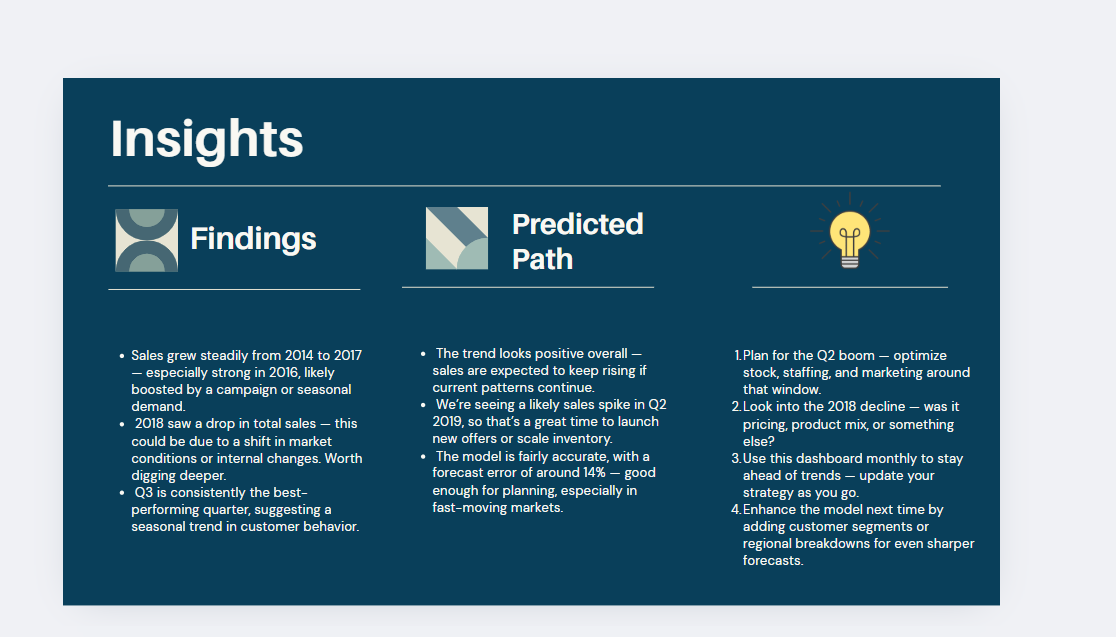

What the dashboard file says about the page in this screenshot:
{"tool":"tableau","page":{"name":"Insights","canvas":[1200,801],"ordinal":1},"visuals":[{"type":"image","param":"Image/Insights.png","box":[8,8,1184,785]}]}

Visuals, with their boxes on the page's 1200x801 design canvas (x1, y1, x2, y2). These are canvas units, not pixel positions in the 1116x637 screenshot, which may show the page scaled, cropped or inside an application window:
image: (8,8,1192,793)
